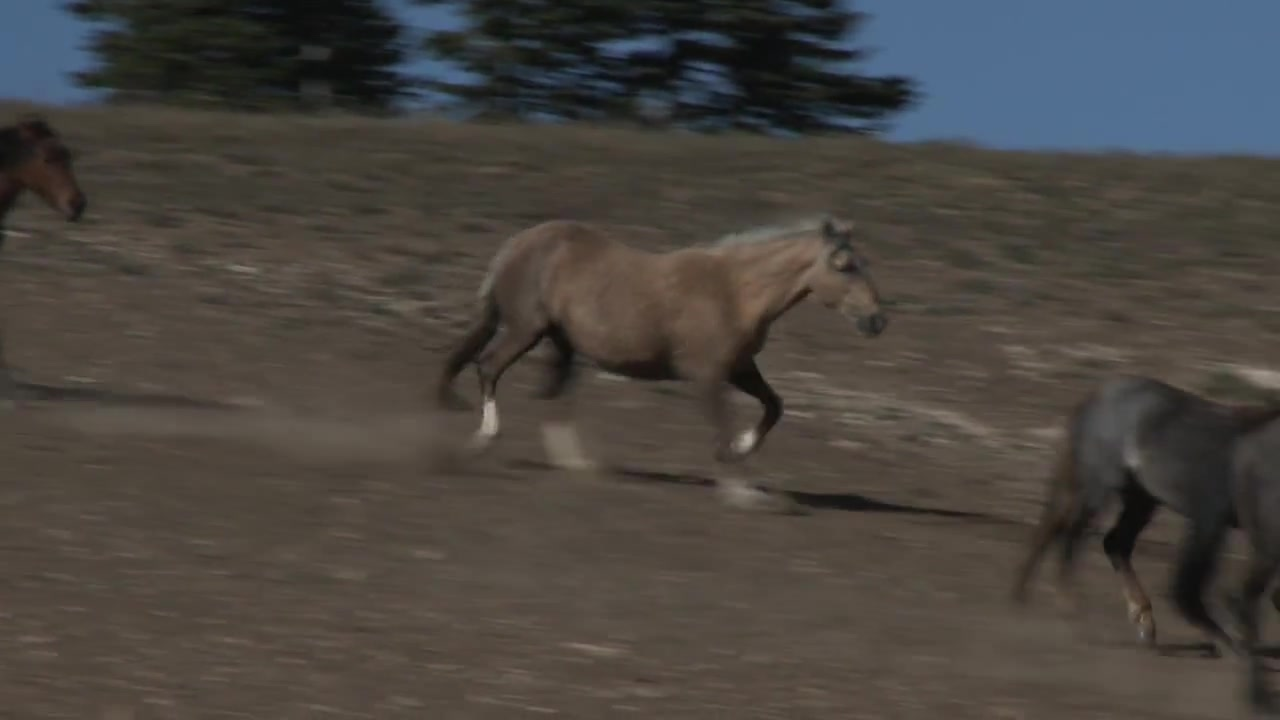horse: (437, 214, 888, 470), (1012, 365, 1279, 656), (1, 108, 93, 241)
